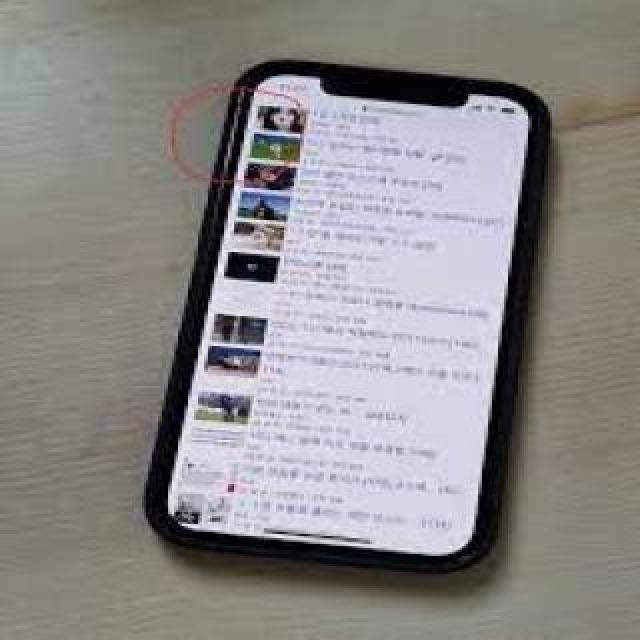smart phone: (136, 29, 589, 604)
